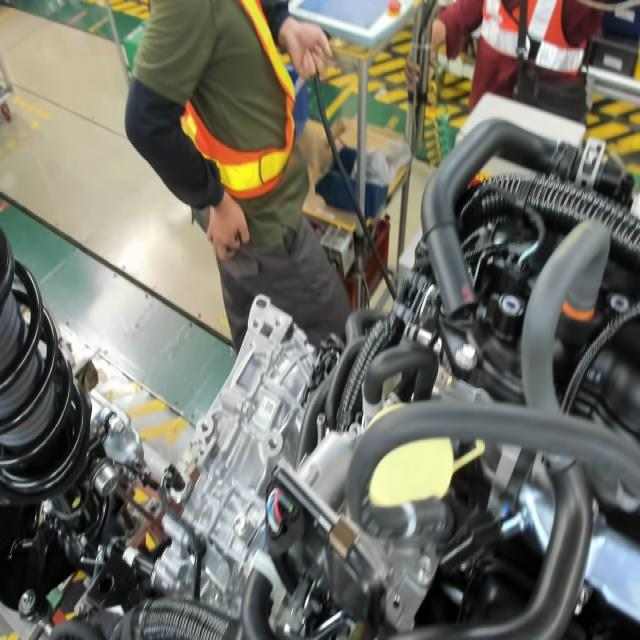Tube Sub Assy Fuel-W: (395, 495, 425, 542)
